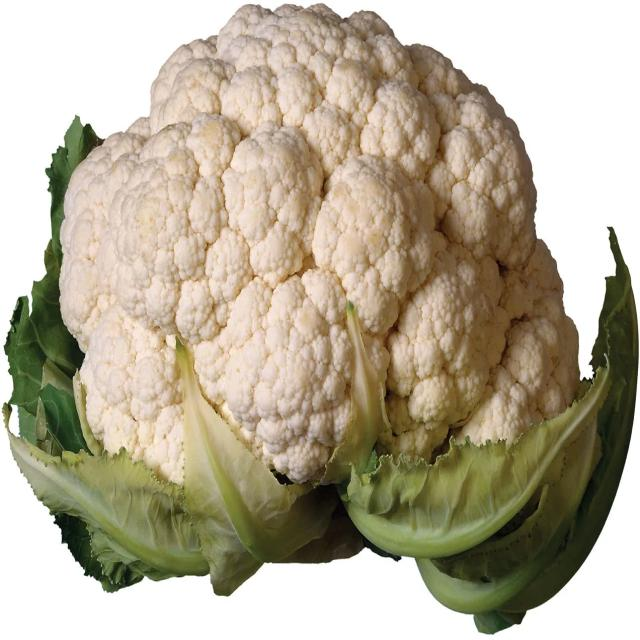Cauliflower: (0, 0, 637, 597)
